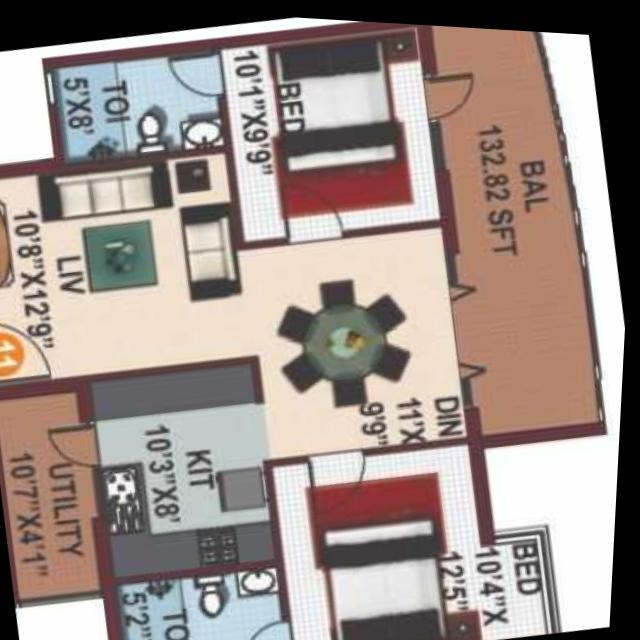Balcony-Sitout: (423, 20, 604, 436)
Bedroom with Toilet: (112, 435, 564, 640), (52, 19, 445, 244)
Dining: (269, 265, 422, 411)
Enterance-Foyer: (0, 311, 56, 387)
Kitchen: (84, 357, 286, 580)
Living: (0, 144, 256, 387)
Toilet: (56, 47, 227, 160), (122, 563, 293, 640)
Utility: (0, 382, 108, 602)
